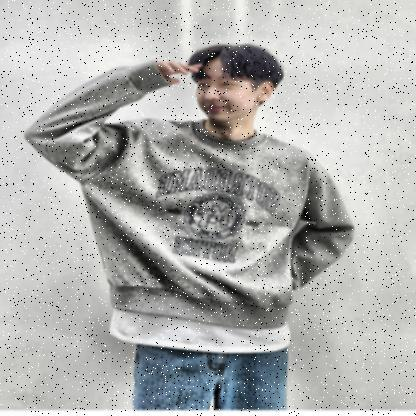short sleeve shirt: (110, 308, 295, 352)
sweater: (20, 57, 357, 330)
trousers: (132, 340, 291, 416)
